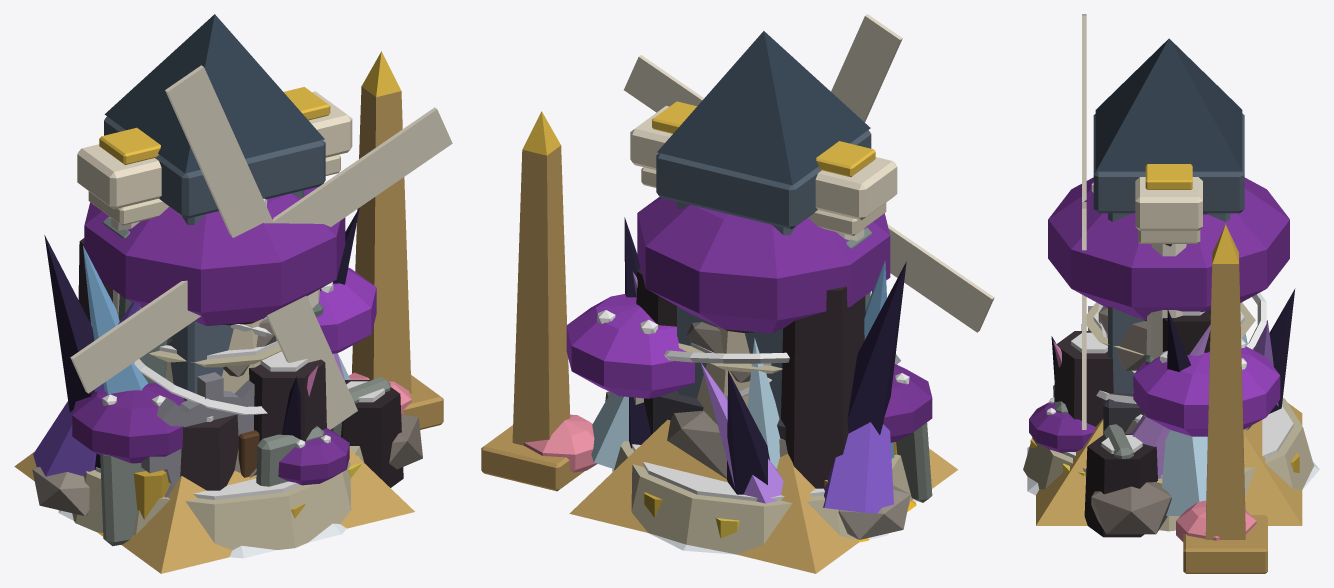
The model's file is worlds.glb.
The picture shows the model from 3 angles, left to right: view 1: azimuth 30°, elevation 25°; view 2: azimuth 150°, elevation 25°; view 3: azimuth 270°, elevation 25°; orthographic projection. The views are drawn at different scales.
Parts seen in each view (by area): view 1: w_poison, w_wind, w_clock, w_sand, w_lava, w_water, w_light, w_zombie, w_shadow, w_stone, w_iron, w_ice (+6 smaller); view 2: w_poison, w_sand, w_clock, w_lava, w_wind, w_water, w_shadow, w_light, w_crystal, w_stone, w_ice, w_water_glow (+4 smaller); view 3: w_poison, w_sand, w_clock, w_lava, w_light, w_water, w_stone, w_ice, w_shadow, w_wind, w_crystal, w_water_glow (+4 smaller).
Part boxes in pixels (left/top/right/bottom): w_poison: left=72, top=186, right=376, bottom=485; w_wind: left=70, top=65, right=452, bottom=477; w_clock: left=104, top=14, right=325, bottom=401; w_sand: left=14, top=51, right=443, bottom=573; w_lava: left=78, top=238, right=403, bottom=490; w_water: left=72, top=344, right=411, bottom=550; w_light: left=77, top=87, right=352, bottom=316; w_zombie: left=100, top=377, right=390, bottom=546; w_shadow: left=44, top=208, right=359, bottom=469; w_stone: left=32, top=319, right=422, bottom=515; w_iron: left=141, top=372, right=254, bottom=497; w_ice: left=58, top=245, right=350, bottom=558; w_poison: left=566, top=196, right=932, bottom=442; w_sand: left=481, top=111, right=957, bottom=573; w_clock: left=656, top=31, right=871, bottom=418; w_lava: left=636, top=268, right=865, bottom=488; w_wind: left=624, top=14, right=994, bottom=424; w_water: left=524, top=343, right=912, bottom=554; w_shadow: left=624, top=217, right=906, bottom=494; w_light: left=630, top=101, right=897, bottom=240; w_crystal: left=632, top=272, right=893, bottom=513; w_stone: left=605, top=322, right=910, bottom=539; w_ice: left=591, top=260, right=916, bottom=554; w_water_glow: left=632, top=342, right=824, bottom=501; w_poison: left=1029, top=177, right=1289, bottom=452; w_sand: left=1036, top=224, right=1302, bottom=573; w_clock: left=1093, top=38, right=1244, bottom=392; w_lava: left=1054, top=310, right=1210, bottom=537; w_light: left=1135, top=164, right=1202, bottom=359; w_water: left=1023, top=302, right=1313, bottom=541; w_stone: left=1091, top=306, right=1251, bottom=534; w_ice: left=1027, top=334, right=1319, bottom=530; w_shadow: left=1051, top=288, right=1295, bottom=413; w_wind: left=1082, top=14, right=1241, bottom=429; w_crystal: left=1053, top=320, right=1278, bottom=478; w_water_glow: left=1062, top=311, right=1293, bottom=478.
Size of the model in its own units: 4.76 by 5.23 by 3.15.
